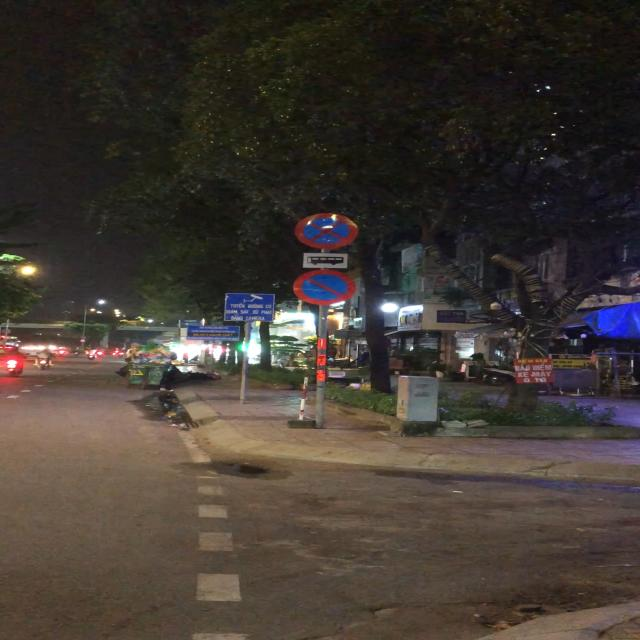Bien bao cam do xe: (293, 269, 360, 307)
Bien bao cam dung xe va do xe: (290, 211, 365, 252)
